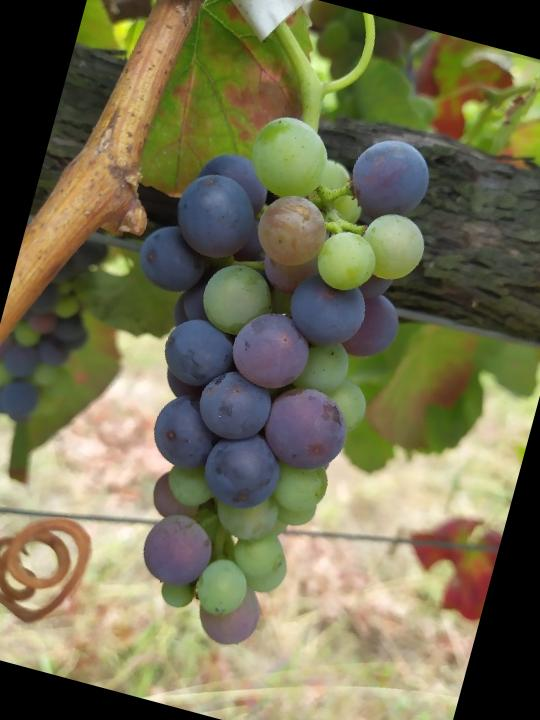grape: (45, 78, 454, 671)
